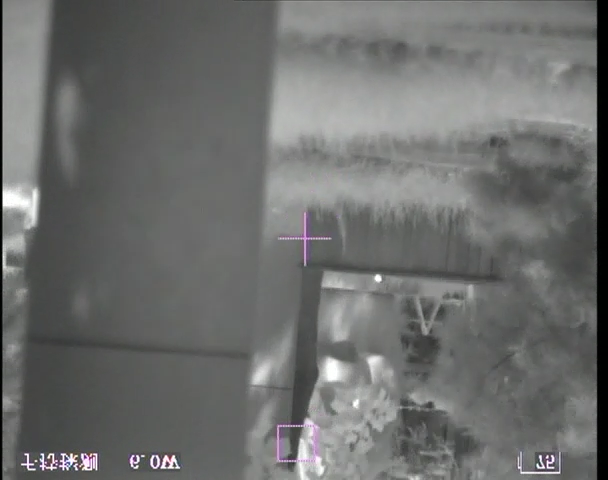my: (373, 272, 383, 283)
